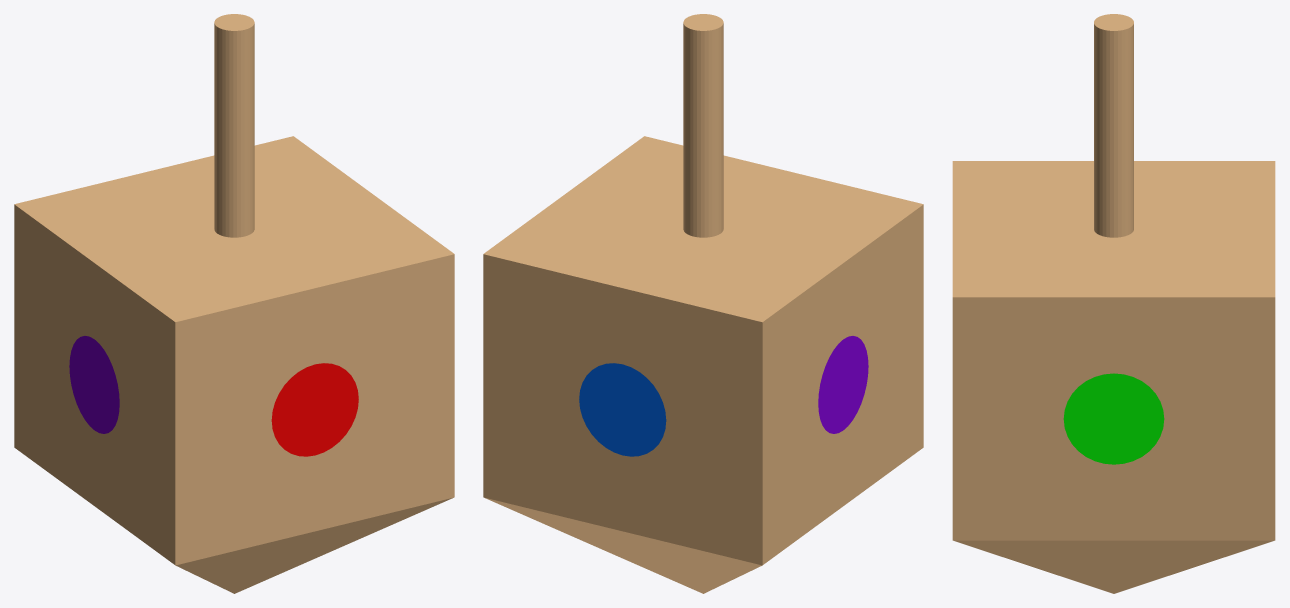
File: sevivon.glb
3 views of the same model, side by side, from view 1: azimuth 30°, elevation 25°; view 2: azimuth 150°, elevation 25°; view 3: azimuth 270°, elevation 25° (orthographic).
Visible parts, largest first — view 1: Body, Stem, Hey, Pey/Shin; view 2: Body, Stem, Nun, Pey/Shin; view 3: Body, Stem, Gimel.
Boxes of the visible parts, x1,y1,x2,y2 form: Body: (14,136,454,593); Stem: (214,14,254,237); Hey: (271,363,358,456); Pey/Shin: (69,336,119,433); Body: (483,136,923,593); Stem: (683,14,723,237); Nun: (579,363,666,456); Pey/Shin: (818,336,868,433); Body: (952,161,1275,593); Stem: (1094,14,1133,237); Gimel: (1063,373,1164,464).
Bounding box in the file's own units: 1.2 × 2.35 × 1.2.
